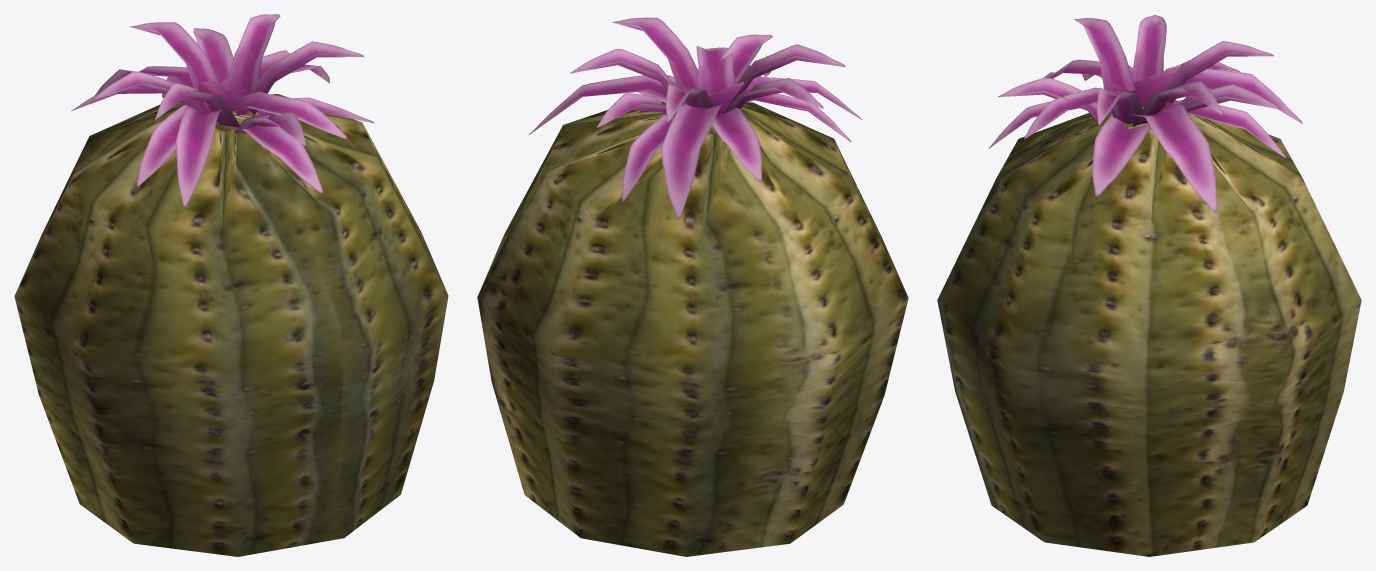
The model's file is Cactus02.FBX.
3 renders of one model, left to right at view 1: azimuth 30°, elevation 25°; view 2: azimuth 150°, elevation 25°; view 3: azimuth 270°, elevation 25°, orthographic.
Visible parts, largest first — view 1: Cactus01; view 2: Cactus01; view 3: Cactus01.
Part boxes in pixels (<box>): Cactus01: <box>14,14,448,556</box>; Cactus01: <box>477,17,908,556</box>; Cactus01: <box>937,15,1361,556</box>.
Size of the model in its own units: 20.92 by 24.14 by 21.1.
